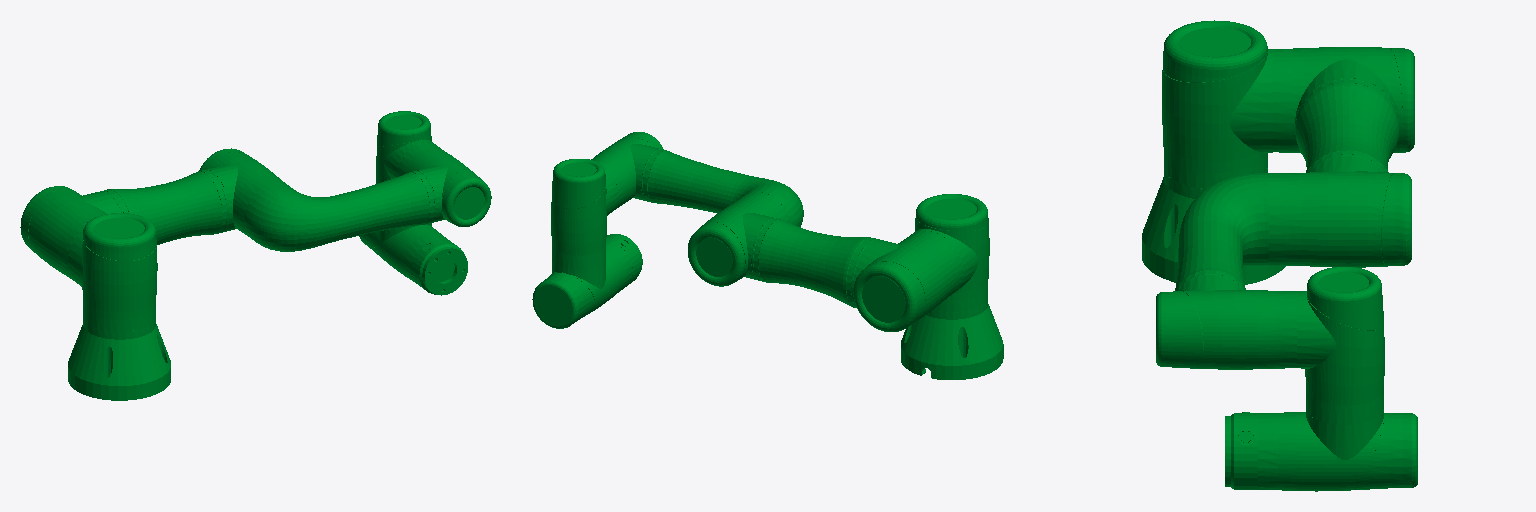
The robot description file, URDF, robot "lexium_digital_twin":
<?xml version="1.0" encoding="utf-8"?>
<robot
  name="lexium_digital_twin">

  <material name="schneider_green">
    <color rgba="0.0 0.58823 0.22353 1.0" />
  </material>

  <link
    name="base_link">
    <inertial>
      <origin
        xyz="-0.00153899088438138 1.78987042569454E-05 0.0511053058633545"
        rpy="0 0 0" />
      <mass
        value="0.460374564690923" />
      <inertia
        ixx="0.000634228805731141"
        ixy="-9.22181032529603E-08"
        ixz="-1.07985741207947E-05"
        iyy="0.000642978821322286"
        iyz="3.75430185192406E-07"
        izz="0.000822276994247443" />
    </inertial>
    <visual>
      <origin
        xyz="0 0 0"
        rpy="0 0 0" />
      <geometry>
        <mesh
          filename="package://lexium_digital_twin/meshes/base_link.STL" />
      </geometry>
      <material name="schneider_green"/>
    </visual>
    <collision>
      <origin
        xyz="0 0 0"
        rpy="0 0 0" />
      <geometry>
        <mesh
          filename="package://lexium_digital_twin/meshes/base_link.STL" />
      </geometry>
    </collision>
  </link>

  <link
    name="Link_1">
    <inertial>
      <origin
        xyz="2.11210151604379E-07 -0.0032600383999371 0.0611467743193716"
        rpy="0 0 0" />
      <mass
        value="0.884295316293331" />
      <inertia
        ixx="0.00156595774591204"
        ixy="-3.1829281871681E-09"
        ixz="-9.70732401433376E-10"
        iyy="0.00150719780315971"
        iyz="8.90451940070508E-06"
        izz="0.00105380900533969" />
    </inertial>
    <visual>
      <origin
        xyz="0 0 0"
        rpy="0 0 0" />
      <geometry>
        <mesh
          filename="package://lexium_digital_twin/meshes/Link_1.STL" />
      </geometry>
      <material name="schneider_green"/>
    </visual>
    <collision>
      <origin
        xyz="0 0 0"
        rpy="0 0 0" />
      <geometry>
        <mesh
          filename="package://lexium_digital_twin/meshes/Link_1.STL" />
      </geometry>
    </collision>
  </link>
  <joint
    name="Joint_1"
    type="revolute">
    <origin
      xyz="0 0 0.08605"
      rpy="0 0 -3.14159" />
    <parent
      link="base_link" />
    <child
      link="Link_1" />
    <axis
      xyz="0 0 1" />
    <limit
      lower="-3.14159"
      upper="3.14159"
      effort="150.0"
      velocity="3.15" />
  </joint>

  <link
    name="Link_2">
    <inertial>
      <origin
        xyz="1.86433709318299E-07 -0.114019663029007 0.0611583268142885"
        rpy="0 0 0" />
      <mass
        value="2.32175993259425" />
      <inertia
        ixx="0.00457254131391827"
        ixy="-1.96574154576579E-08"
        ixz="9.40548052059898E-09"
        iyy="0.00325786932114449"
        iyz="-3.36892394579144E-06"
        izz="0.00351304152723721" />
    </inertial>
    <visual>
      <origin
        xyz="0 0 0"
        rpy="0 0 0" />
      <geometry>
        <mesh
          filename="package://lexium_digital_twin/meshes/Link_2.STL" />
      </geometry>
      <material name="schneider_green"/>
    </visual>
    <collision>
      <origin
        xyz="0 0 0"
        rpy="0 0 0" />
      <geometry>
        <mesh
          filename="package://lexium_digital_twin/meshes/Link_2.STL" />
      </geometry>
    </collision>
  </link>
  <joint
    name="Joint_2"
    type="revolute">
    <origin
      xyz="0 -0.0505 0.0644999999999995"
      rpy="-1.5707963267949 1.5707963267949 3.14159265358979" />
    <parent
      link="Link_1" />
    <child
      link="Link_2" />
    <axis
      xyz="0 0 -1" />
    <limit
      lower="-3.14159"
      upper="3.14159"
      effort="150.0"
      velocity="3.15" />
  </joint>

  <link
    name="Link_3">
    <inertial>
      <origin
        xyz="2.11022256919615E-07 -0.133284776639748 0.0409329396724559"
        rpy="0 0 0" />
      <mass
        value="1.20330042207005" />
      <inertia
        ixx="0.00386589755228367"
        ixy="4.32607128213095E-08"
        ixz="1.85903438289812E-10"
        iyy="0.00093811456880245"
        iyz="0.000336660411901458"
        izz="0.00362238013552109" />
    </inertial>
    <visual>
      <origin
        xyz="0 0 0"
        rpy="0 0 0" />
      <geometry>
        <mesh
          filename="package://lexium_digital_twin/meshes/Link_3.STL" />
      </geometry>
      <material name="schneider_green"/>
    </visual>
    <collision>
      <origin
        xyz="0 0 0"
        rpy="0 0 0" />
      <geometry>
        <mesh
          filename="package://lexium_digital_twin/meshes/Link_3.STL" />
      </geometry>
    </collision>
  </link>
  <joint
    name="Joint_3"
    type="revolute">
    <origin
      xyz="0 -0.24600000094683 -0.00350000000001006"
      rpy="-3.14159265358979 0 -3.14159265358979" />
    <parent
      link="Link_2" />
    <child
      link="Link_3" />
    <axis
      xyz="0 0 1" />
    <limit
      lower="-3.14159"
      upper="3.14159"
      effort="150.0"
      velocity="3.15" />
  </joint>

  <link
    name="Link_4">
    <inertial>
      <origin
        xyz="6.63581591882425E-07 0.0140954810950097 0.0384066562704616"
        rpy="0 0 0" />
      <mass
        value="0.493200863231089" />
      <inertia
        ixx="0.000501550219737654"
        ixy="-3.21596725516391E-10"
        ixz="7.73858274783939E-09"
        iyy="0.000324066408173854"
        iyz="-6.21495450181184E-05"
        izz="0.000479035823680177" />
    </inertial>
    <visual>
      <origin
        xyz="0 0 0"
        rpy="0 0 0" />
      <geometry>
        <mesh
          filename="package://lexium_digital_twin/meshes/Link_4.STL" />
      </geometry>
      <material name="schneider_green"/>
    </visual>
    <collision>
      <origin
        xyz="0 0 0"
        rpy="0 0 0" />
      <geometry>
        <mesh
          filename="package://lexium_digital_twin/meshes/Link_4.STL" />
      </geometry>
    </collision>
  </link>
  <joint
    name="Joint_4"
    type="revolute">
    <origin
      xyz="0 -0.228000000001584 -0.0244999999969376"
      rpy="-3.14159265356148 0 -1.5707963267949" />
    <parent
      link="Link_3" />
    <child
      link="Link_4" />
    <axis
      xyz="0 0 -1" />
    <limit
      lower="-3.14159"
      upper="3.14159"
      effort="28.0"
      velocity="3.2" />
  </joint>

  <link
    name="Link_5">
    <inertial>
      <origin
        xyz="-2.19383742788647E-06 -0.00676921996752099 0.0385949901802433"
        rpy="0 0 0" />
      <mass
        value="0.55156964581296" />
      <inertia
        ixx="0.00101051555001167"
        ixy="1.61103782987192E-09"
        ixz="-1.04472007475205E-08"
        iyy="0.000360478219660431"
        iyz="1.65612456860953E-05"
        izz="0.000981985301860736" />
    </inertial>
    <visual>
      <origin
        xyz="0 0 0"
        rpy="0 0 0" />
      <geometry>
        <mesh
          filename="package://lexium_digital_twin/meshes/Link_5.STL" />
      </geometry>
      <material name="schneider_green"/>
    </visual>
    <collision>
      <origin
        xyz="0 0 0"
        rpy="0 0 0" />
      <geometry>
        <mesh
          filename="package://lexium_digital_twin/meshes/Link_5.STL" />
      </geometry>
    </collision>
  </link>
  <joint
    name="Joint_5"
    type="revolute">
    <origin
      xyz="0 0.0760000000011137 0.0414999999977316"
      rpy="1.57079632682321 0 -3.14159265358979" />
    <parent
      link="Link_4" />
    <child
      link="Link_5" />
    <axis
      xyz="0 0 1" />
    <limit
      lower="-3.14159"
      upper="3.14159"
      effort="28.0"
      velocity="3.2" />
  </joint>

  <link
    name="Link_6">
    <inertial>
      <origin
        xyz="2.04521118006405E-05 -5.00312640405731E-05 0.0134113824379624"
        rpy="0 0 0" />
      <mass
        value="0.0951327910810692" />
      <inertia
        ixx="3.36064368849105E-05"
        ixy="2.00195929980298E-07"
        ixz="3.17141866321017E-08"
        iyy="3.36666169020005E-05"
        iyz="8.89684072947432E-08"
        izz="5.51967331435198E-05" />
    </inertial>
    <visual>
      <origin
        xyz="0 0 0"
        rpy="0 0 0" />
      <geometry>
        <mesh
          filename="package://lexium_digital_twin/meshes/Link_6.STL" />
      </geometry>
      <material name="schneider_green"/>
    </visual>
    <collision>
      <origin
        xyz="0 0 0"
        rpy="0 0 0" />
      <geometry>
        <mesh
          filename="package://lexium_digital_twin/meshes/Link_6.STL" />
      </geometry>
    </collision>
  </link>
  <joint
    name="Joint_6"
    type="revolute">
    <origin
      xyz="0 -0.0760000000025846 0.0414999999985123"
      rpy="-1.5707963267949 0.785398163 -3.14159265358979" />
    <parent
      link="Link_5" />
    <child
      link="Link_6" />
    <axis
      xyz="0 0 1" />
    <limit
      lower="-3.14159"
      upper="3.14159"
      effort="28.0"
      velocity="3.2" />
  </joint>
</robot>

--- What the picture shows (computed from the rendered views, not written in the file) ---
3 views of the same robot in one strip: view 1: azimuth 30°, elevation 25°; view 2: azimuth 150°, elevation 25°; view 3: azimuth 270°, elevation 25° (orthographic).
Robot: lexium_digital_twin — 7 links, 6 joints (6 revolute); root link base_link; default pose: all joints at 0.
Visible links, largest first — view 1: Link_3, Link_2, Link_1, base_link, Link_4, Link_6, Link_5; view 2: Link_2, Link_3, base_link, Link_4, Link_1, Link_5, Link_6; view 3: Link_2, Link_3, Link_1, Link_4, Link_5, base_link, Link_6.
Link boxes in pixels (left/top/right/bottom): Link_3: left=244, top=142, right=491, bottom=251; Link_2: left=20, top=148, right=288, bottom=280; Link_1: left=68, top=213, right=157, bottom=331; base_link: left=68, top=318, right=170, bottom=400; Link_4: left=376, top=111, right=435, bottom=183; Link_6: left=411, top=238, right=467, bottom=295; Link_5: left=359, top=223, right=447, bottom=283; Link_2: left=688, top=192, right=962, bottom=331; Link_3: left=591, top=132, right=803, bottom=226; base_link: left=901, top=299, right=1003, bottom=379; Link_4: left=551, top=159, right=618, bottom=268; Link_1: left=911, top=194, right=989, bottom=311; Link_5: left=532, top=240, right=632, bottom=328; Link_6: left=606, top=234, right=642, bottom=284; Link_2: left=1269, top=47, right=1414, bottom=267; Link_3: left=1156, top=173, right=1296, bottom=369; Link_1: left=1162, top=20, right=1272, bottom=188; Link_4: left=1297, top=267, right=1384, bottom=424; Link_5: left=1258, top=410, right=1417, bottom=491; base_link: left=1142, top=168, right=1285, bottom=284; Link_6: left=1225, top=412, right=1257, bottom=489.
Bounding box of the posed robot: 0.5735 × 0.2414 × 0.2115 m (x, y, z).
Meshes: 7 distinct files referenced, 7 mesh visuals loaded (7 binary STL).
